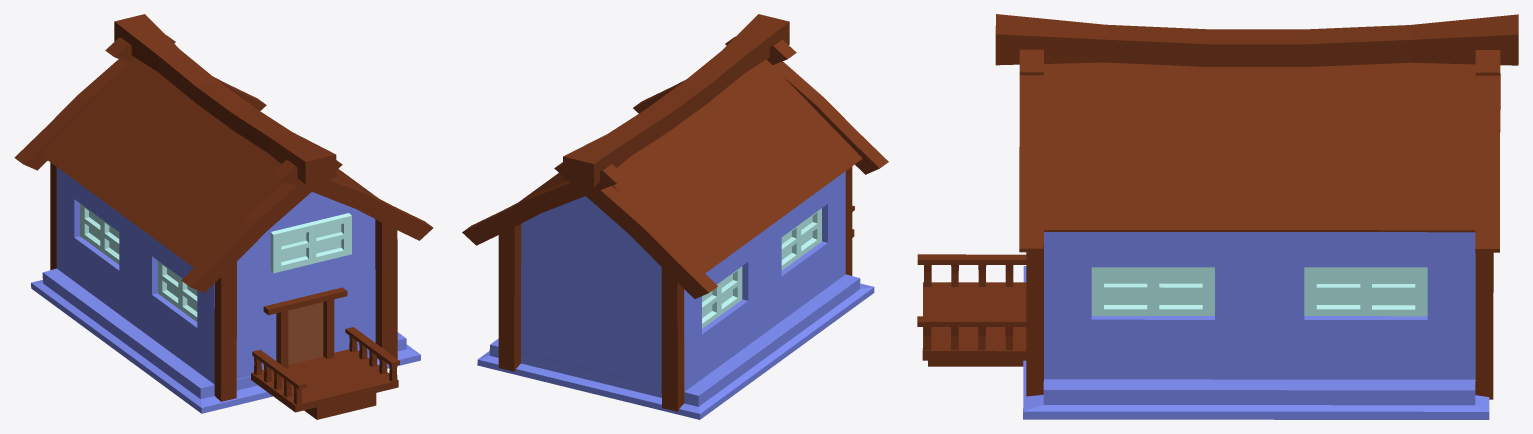
The model's file is Casa_A.fbx.
3 renders of one model, left to right at view 1: azimuth 30°, elevation 25°; view 2: azimuth 150°, elevation 25°; view 3: azimuth 270°, elevation 25°, orthographic. The views are drawn at different scales.
Visible parts, largest first — view 1: Casa_Azul; view 2: Casa_Azul; view 3: Casa_Azul.
Boxes of the visible parts, box(x1,y1,x2,y2) form: Casa_Azul: box(14, 14, 433, 419); Casa_Azul: box(462, 14, 888, 419); Casa_Azul: box(917, 14, 1518, 419).
Size of the model in its own units: 300 by 278 by 471.
